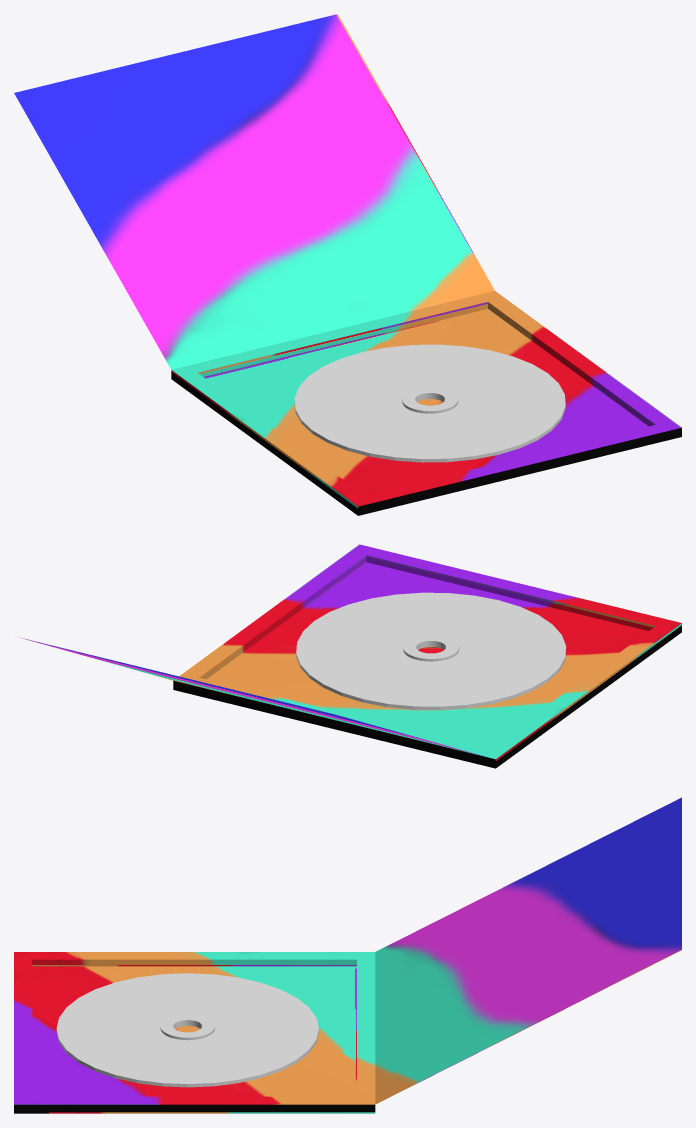
3 renders of one model, top to bottom at view 1: azimuth 30°, elevation 25°; view 2: azimuth 150°, elevation 25°; view 3: azimuth 270°, elevation 25°, orthographic. The views are drawn at different scales.
Visible parts, largest first — view 1: Cube, Torus; view 2: Cube, Torus; view 3: Cube, Torus.
Boxes of the visible parts, box(x1,y1,x2,y2) form: Cube: box(14, 14, 681, 515); Torus: box(294, 344, 565, 462); Cube: box(20, 544, 681, 768); Torus: box(296, 592, 566, 710); Cube: box(14, 797, 681, 1113); Torus: box(56, 973, 318, 1087).
Size of the model in its own units: 2.01 by 1 by 3.7.
1 material, 1 textured.
